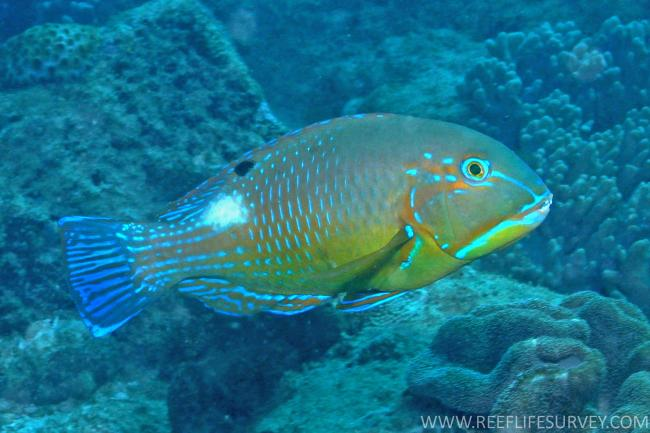fish: (59, 112, 555, 333)
